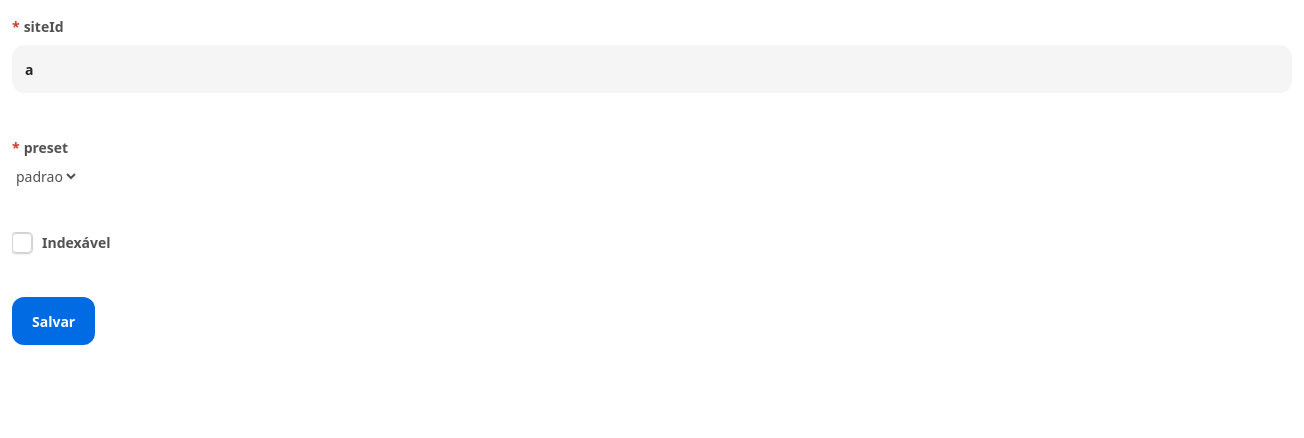
Scenario: SchemaForm: foco, dica do boolean e só leitura › erro no boolean: a caixa fica inválida, com a mensagem ligada
This screenshot has width=1304, height=438.
What coordinates should you click on to do the following:
click the checkbox labelled "Indexável"
I would click on:
 (22, 243)
Its box is [12, 233, 32, 253].
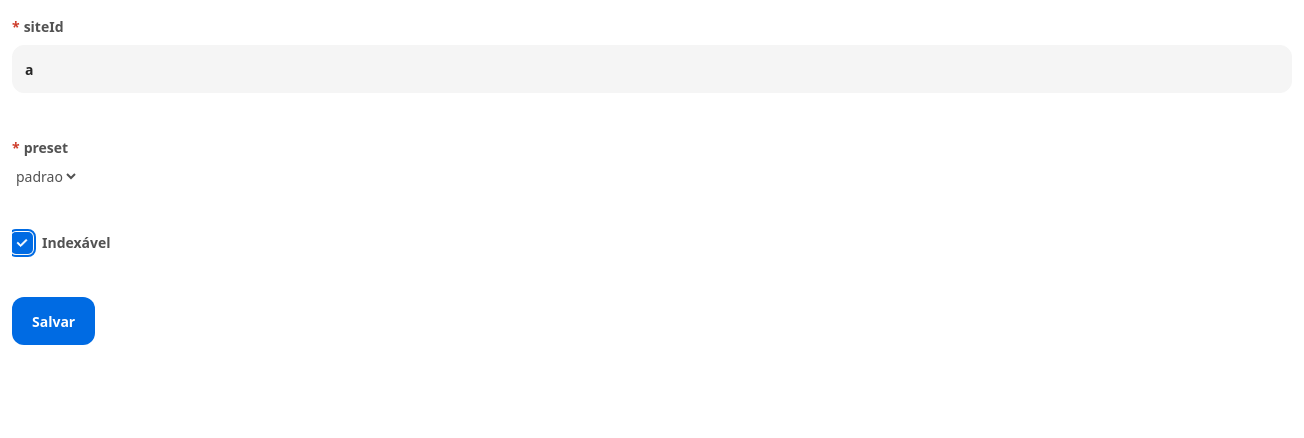
expect the checkbox labelled "Indexável" is checked: met, box [12, 233, 32, 253]
What coordinates should you click on to do the following:
click the button "Salvar"
I would click on:
 (54, 321)
Its box is [12, 297, 95, 345].
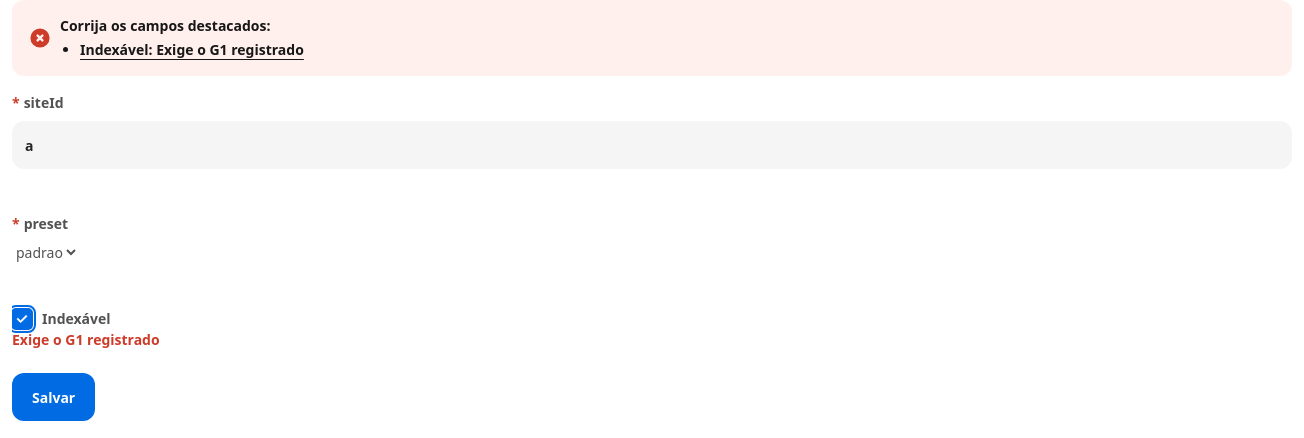
expect the text "Exige o G1 registrado" is shown: met, box [12, 329, 160, 350]
